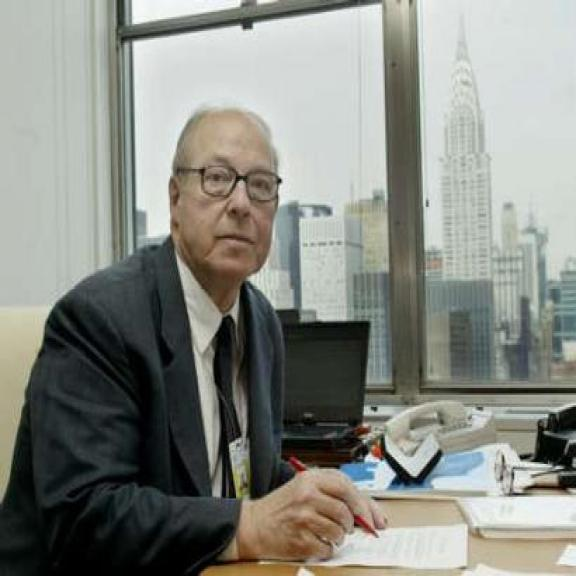face: (169, 129, 283, 277)
